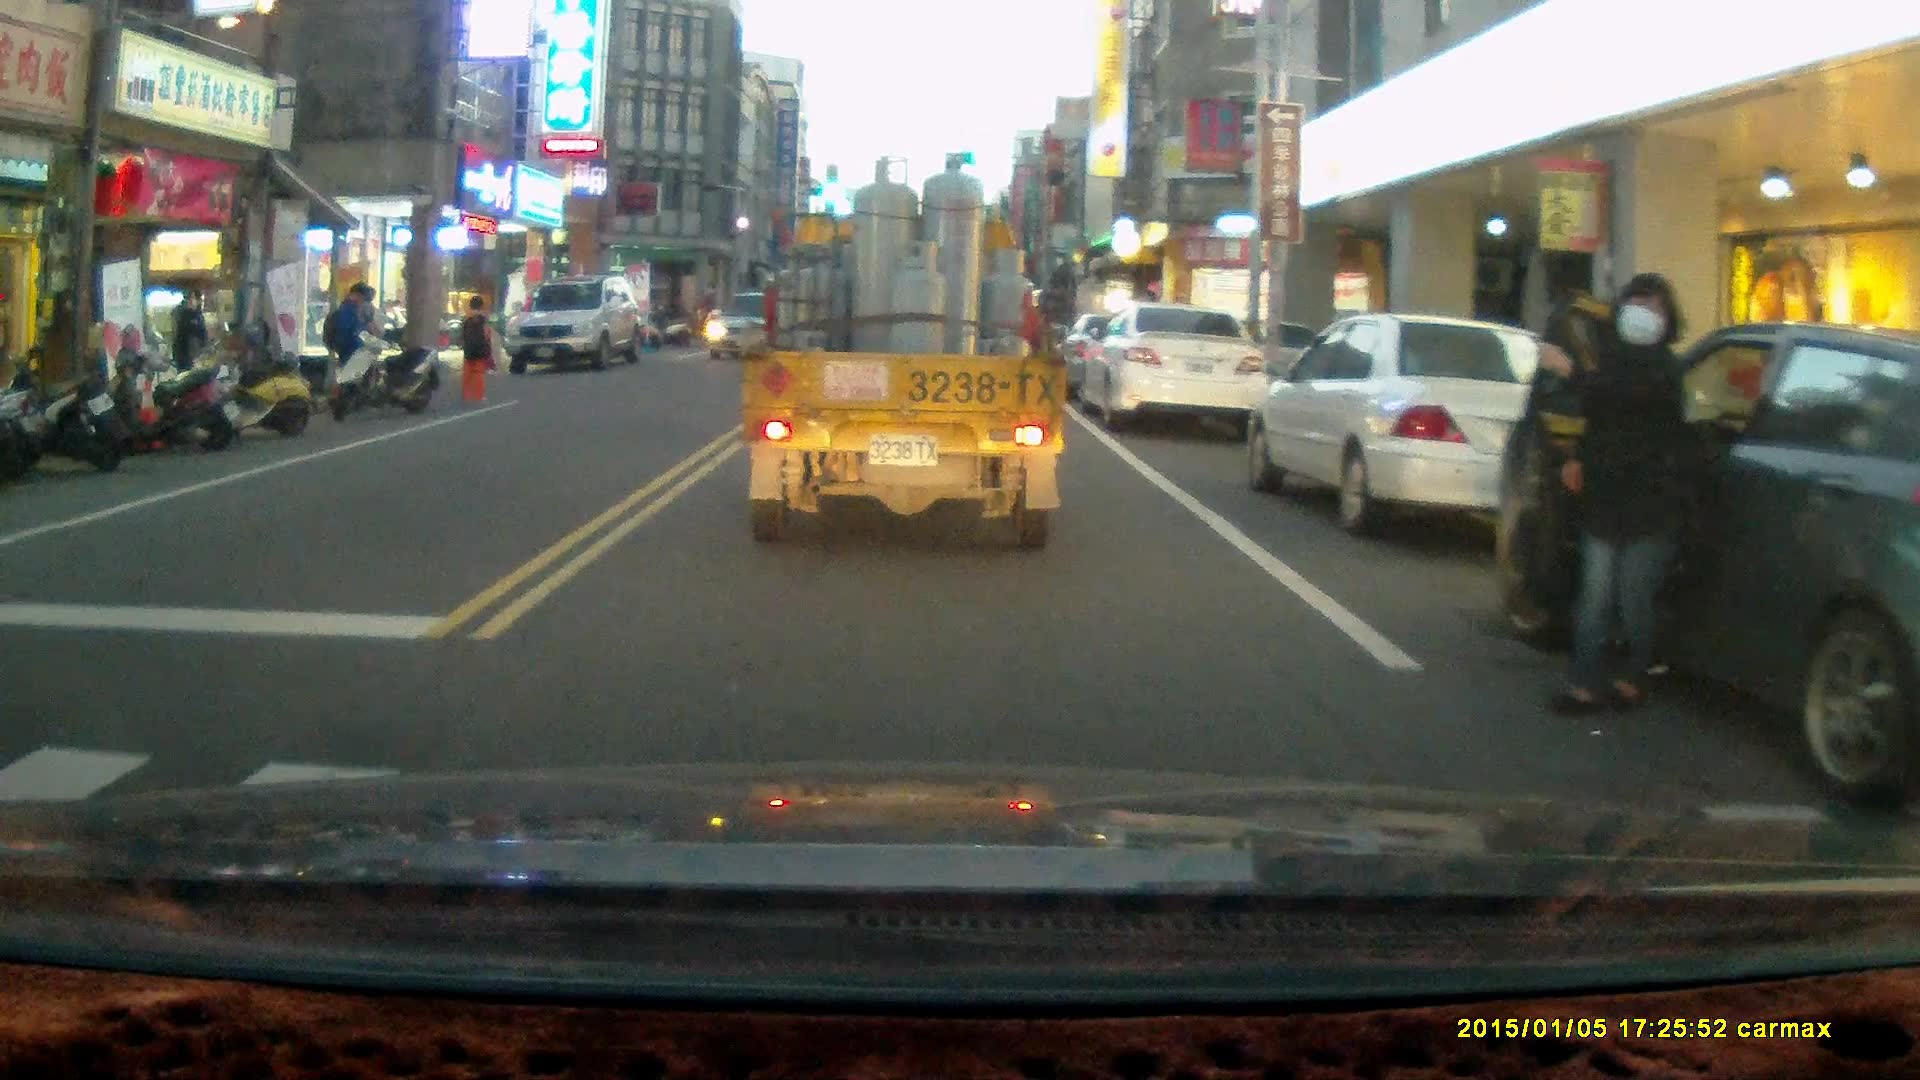pedestrian: (1534, 271, 1694, 717), (320, 280, 372, 408), (170, 285, 212, 417), (458, 292, 497, 406)
vehicle: (1493, 317, 1920, 784), (737, 148, 1073, 552), (1242, 315, 1615, 536), (1081, 304, 1272, 430), (506, 279, 647, 374), (704, 290, 785, 362)
